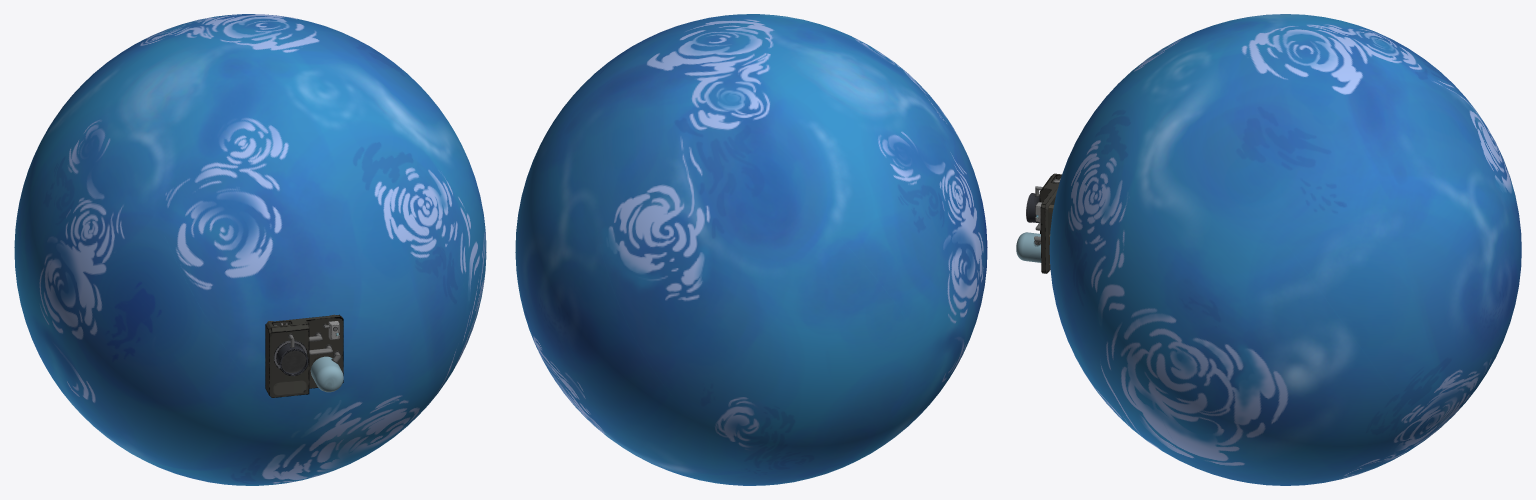
Rendered from planet_ocean_iteration_1.gltf.
3 views of the same model, side by side, from view 1: azimuth 30°, elevation 25°; view 2: azimuth 150°, elevation 25°; view 3: azimuth 270°, elevation 25° (orthographic).
Parts seen in each view (by area): view 1: planet_ocean_iteration_1; view 2: planet_ocean_iteration_1; view 3: planet_ocean_iteration_1.
Part boxes in pixels (bbox=[...]): planet_ocean_iteration_1: bbox=[14, 14, 486, 485]; planet_ocean_iteration_1: bbox=[515, 14, 987, 485]; planet_ocean_iteration_1: bbox=[1016, 14, 1521, 485].
Bounding box in the file's own units: 13.49 × 13.49 × 14.45.
3 materials, 3 textured.
